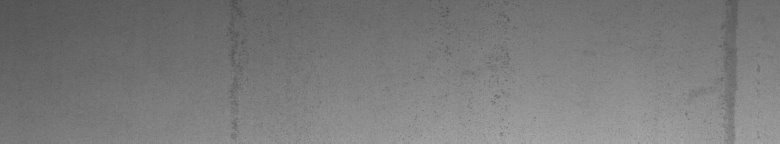ib: (443, 7, 510, 104)
